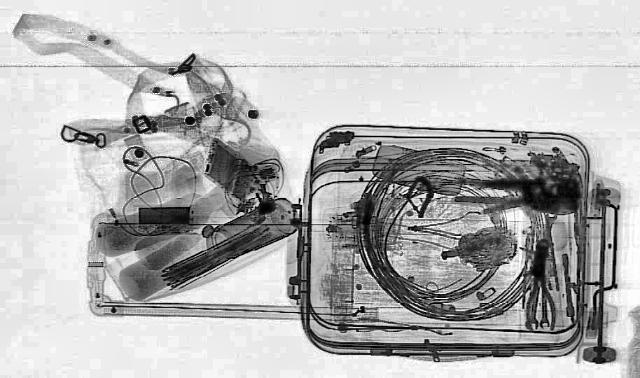Pliers: (525, 242, 557, 330)
Wrench: (526, 297, 538, 329), (541, 296, 549, 327)
